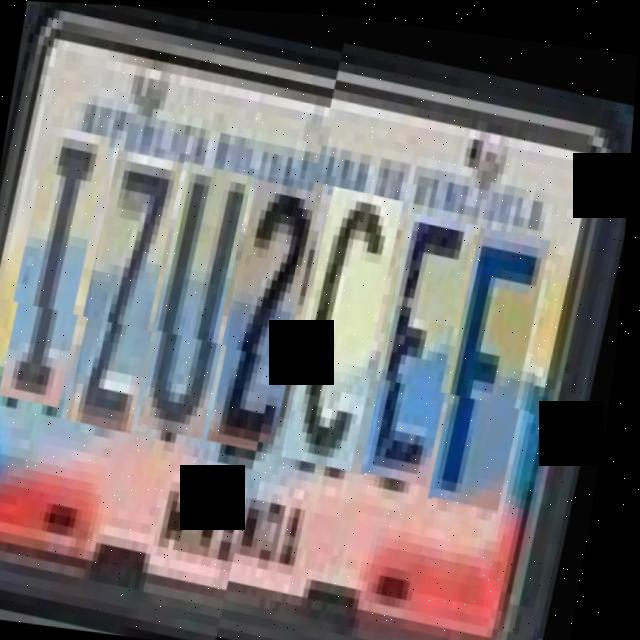2: (217, 171, 333, 448)
C: (290, 185, 413, 473)
E: (370, 209, 486, 487)
F: (438, 222, 561, 510)
I: (7, 122, 120, 408)
U: (147, 158, 263, 435)
Z: (76, 145, 193, 431)
